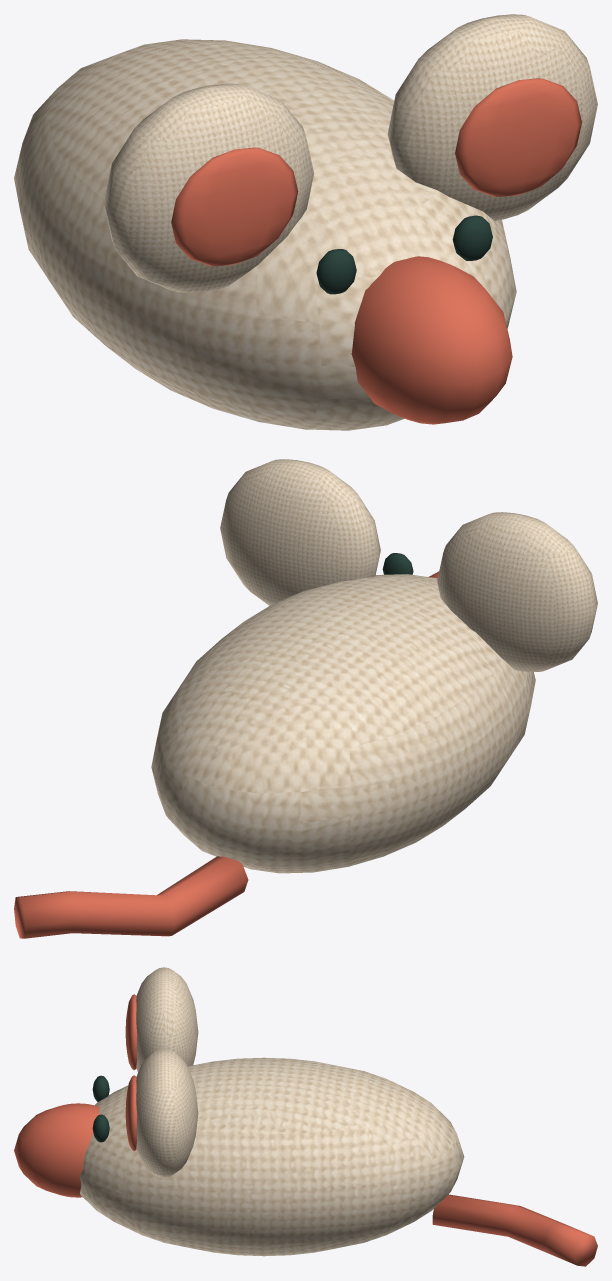
The model's file is mouse.glb.
3 views of the same model, one above another, from view 1: azimuth 30°, elevation 25°; view 2: azimuth 150°, elevation 25°; view 3: azimuth 270°, elevation 25° (orthographic). The views are drawn at different scales.
Parts seen in each view (by area): view 1: Mouse body, Mouse ear.001, Mouse nose, Mouse ear, Ear inset.001, Ear inset, Stitched eye, Stitched eye.001; view 2: Mouse body, Mouse ear.001, Mouse ear, Mouse tail; view 3: Mouse body, Mouse ear, Mouse nose, Mouse tail, Mouse ear.001, Ear inset.001, Ear inset.
Boxes of the visible parts, x1=… form: Mouse body: x1=14, y1=39, x2=516, y2=430; Mouse ear.001: x1=104, y1=83, x2=313, y2=292; Mouse nose: x1=351, y1=256, x2=512, y2=424; Mouse ear: x1=387, y1=14, x2=597, y2=220; Ear inset.001: x1=171, y1=147, x2=298, y2=266; Ear inset: x1=455, y1=78, x2=581, y2=196; Stitched eye: x1=316, y1=249, x2=356, y2=294; Stitched eye.001: x1=452, y1=215, x2=492, y2=260; Mouse body: x1=151, y1=574, x2=535, y2=873; Mouse ear.001: x1=437, y1=512, x2=597, y2=672; Mouse ear: x1=220, y1=459, x2=380, y2=605; Mouse tail: x1=14, y1=856, x2=248, y2=938; Mouse body: x1=79, y1=1057, x2=464, y2=1256; Mouse ear: x1=136, y1=1048, x2=198, y2=1177; Mouse nose: x1=14, y1=1103, x2=99, y2=1197; Mouse tail: x1=432, y1=1194, x2=597, y2=1266; Mouse ear.001: x1=136, y1=967, x2=198, y2=1072; Ear inset.001: x1=125, y1=994, x2=137, y2=1069; Ear inset: x1=125, y1=1075, x2=137, y2=1150.
Size of the model in its own units: 0.23 by 0.175 by 0.4085.
3 materials, 1 textured.
